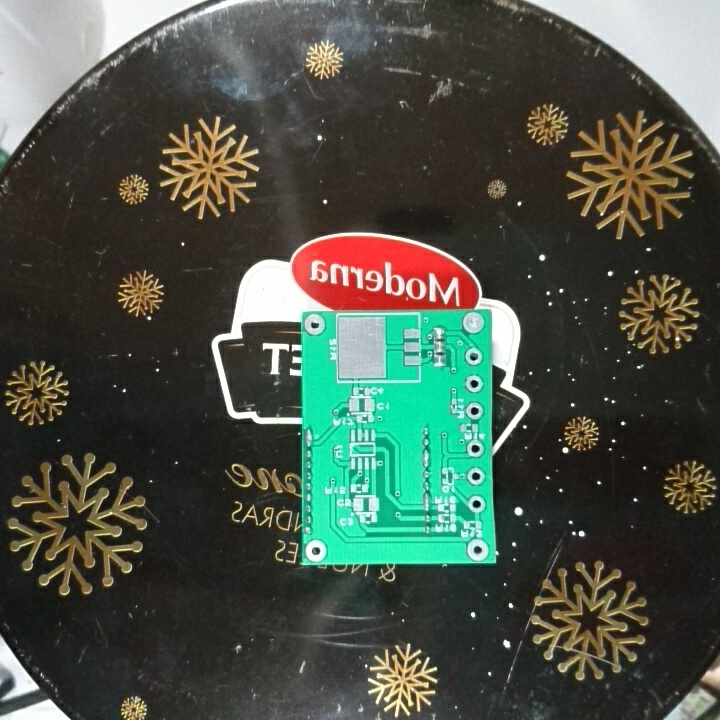F: (466, 535, 491, 563), (302, 312, 327, 337), (461, 310, 485, 336), (304, 539, 328, 561), (465, 493, 488, 515), (465, 464, 486, 488), (465, 439, 485, 461), (464, 372, 484, 393), (464, 400, 485, 420), (464, 347, 483, 366)
P: (419, 446, 434, 470), (303, 426, 315, 449), (420, 491, 433, 510)
